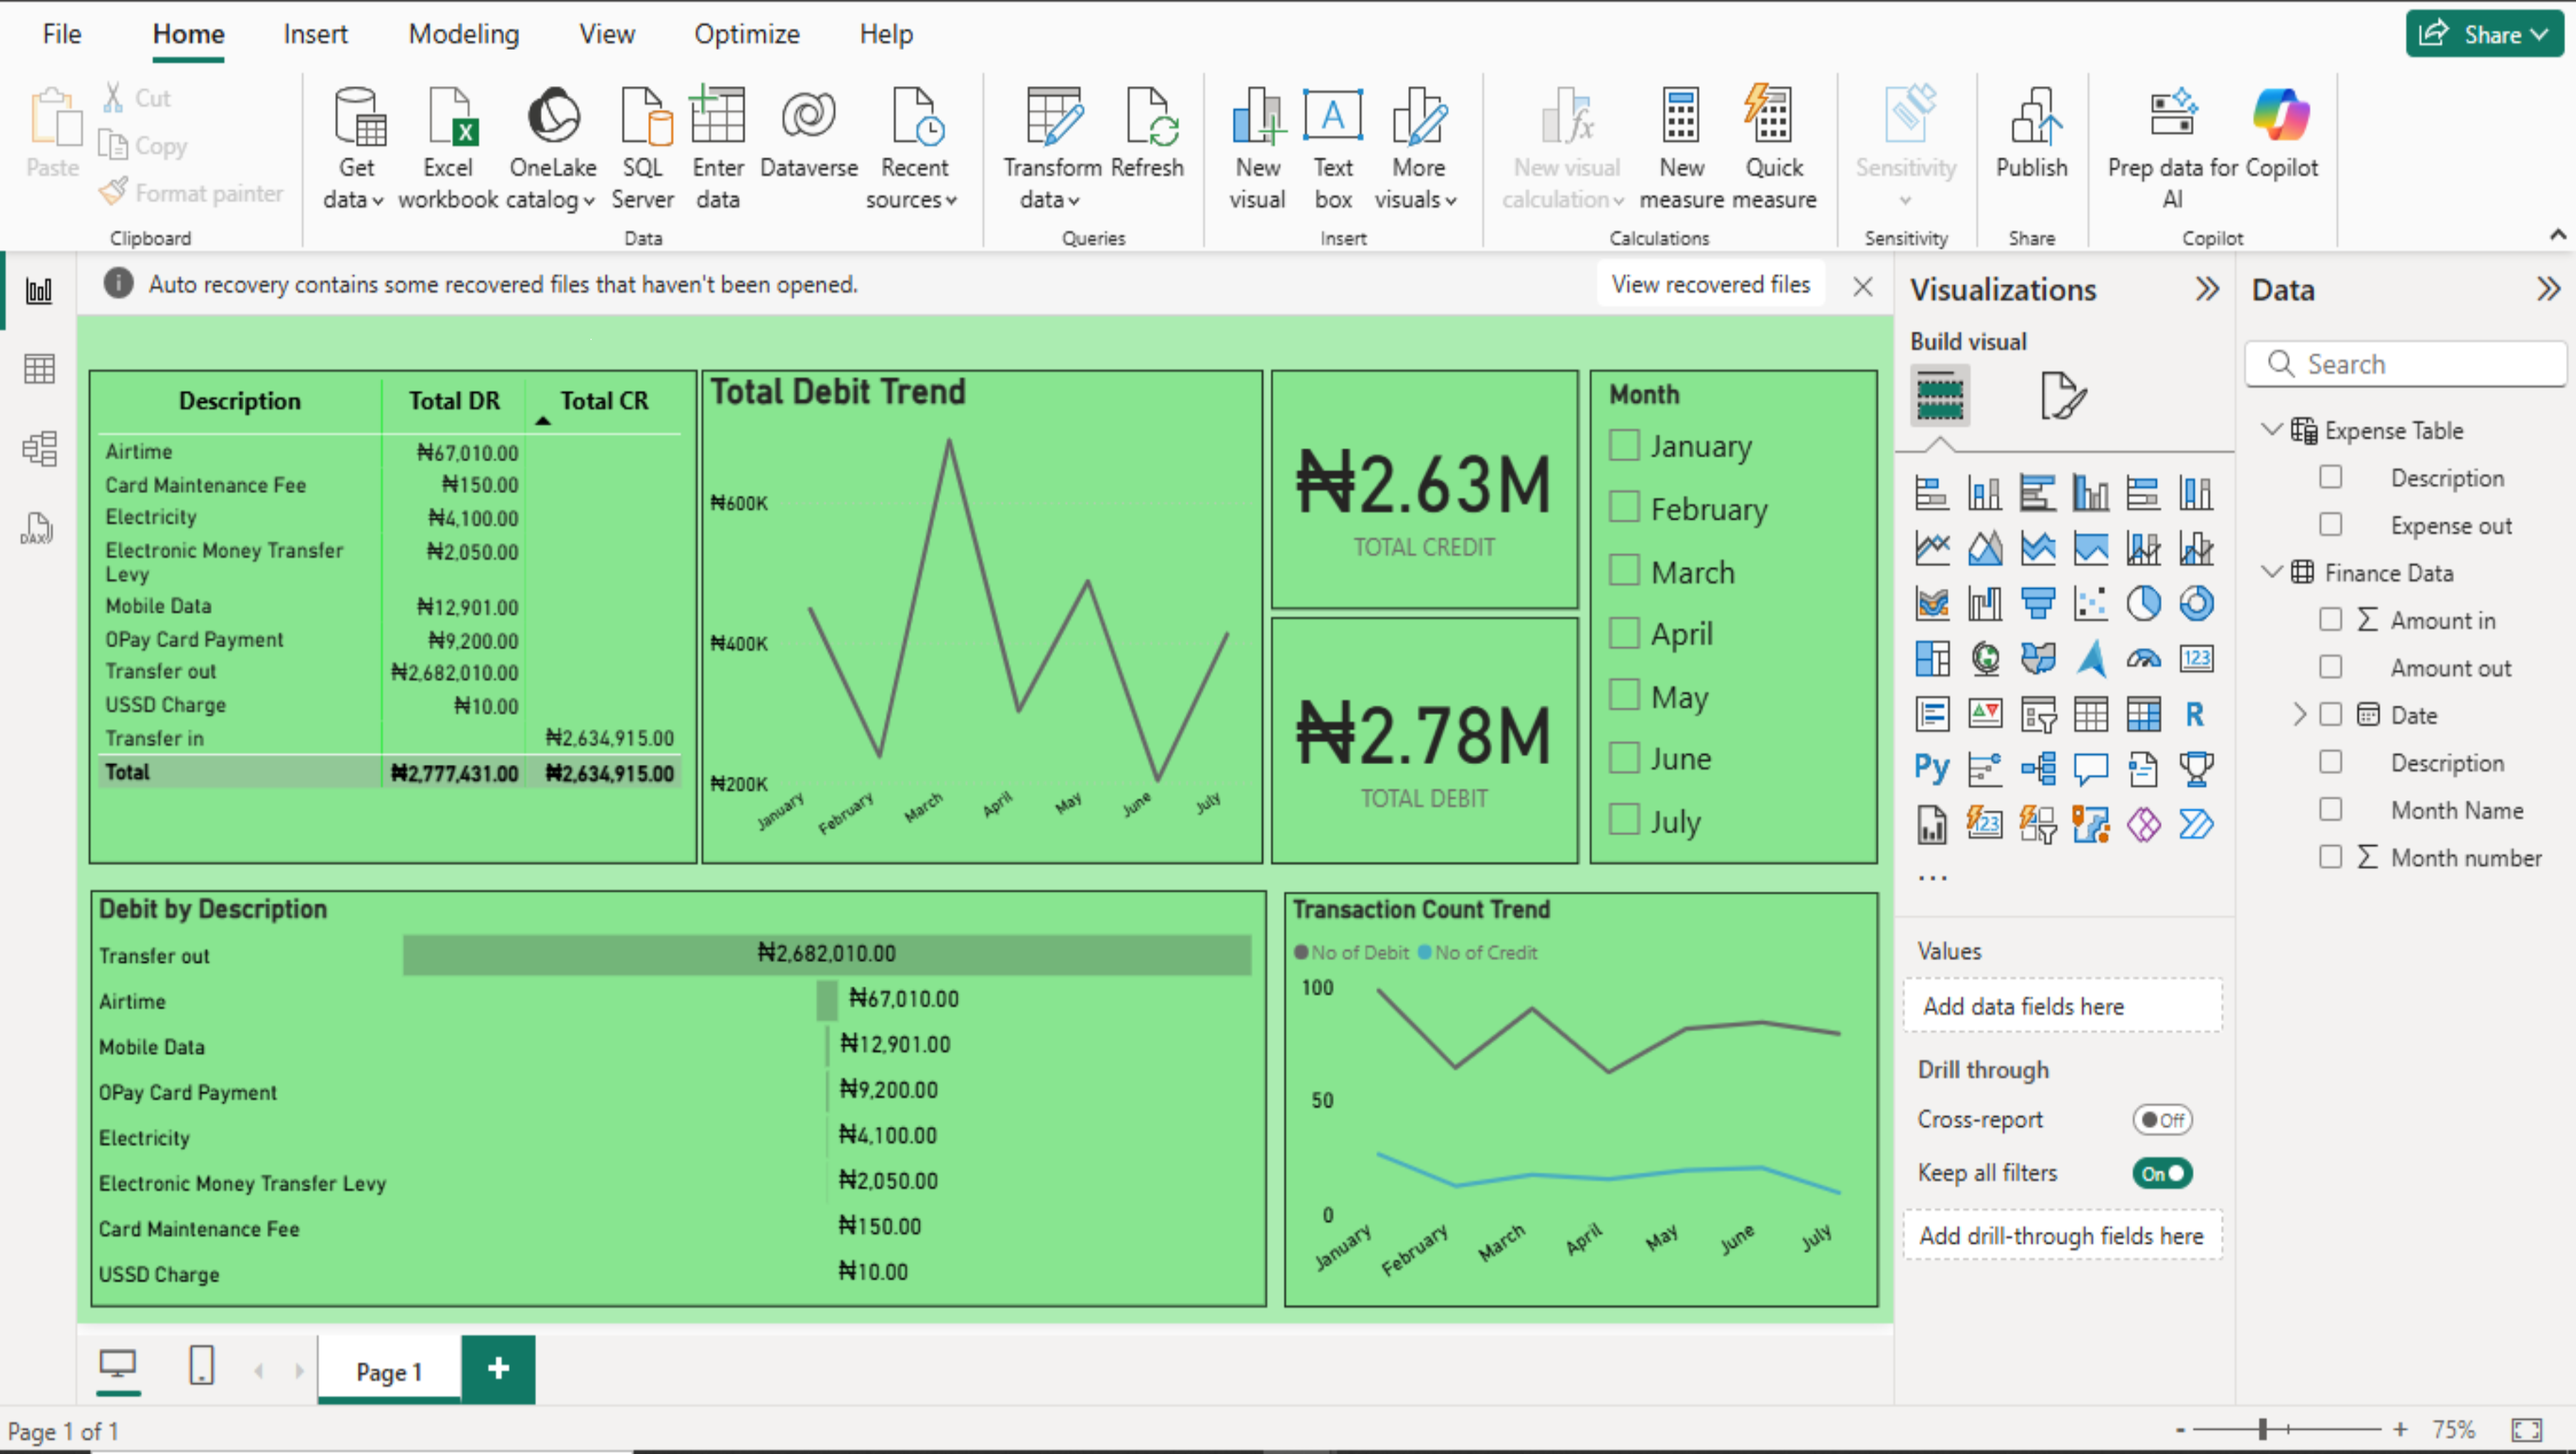

The dashboard page shown, as its layout file describes it:
{"tool":"powerbi","page":{"name":"Page 1","canvas":[1280,720],"ordinal":0},"visuals":[{"type":"tableEx","fields":{"Values":["Data.Description","Sum(Data.Amount out)","Sum(Data.Amount in)"]},"box":[8,79.8,429.3,332.3],"z":0},{"type":"actionButton","box":[0,0,100,40],"z":1000},{"type":"funnel","title":"Debit by Description","fields":{"Category":["Expense Table.Description"],"Y":["Sum(Expense Table.Expense out)"]},"box":[9.3,429.3,829.4,280.5],"z":2000},{"type":"card","fields":{"Values":["Sum(Finance Data.Amount out)"]},"box":[841.4,245.9,216.7,166.1],"z":3000},{"type":"card","fields":{"Values":["Sum(Finance Data.Amount in)"]},"box":[841.4,79.8,216.7,160.8],"z":4000},{"type":"lineChart","title":"Transaction Count Trend","fields":{"Category":["Finance Data.Month Name"],"Y":["CountNonNull(Finance Data.Amount out)","CountNonNull(Finance Data.Amount in)"]},"box":[850.7,430.7,418.7,279.1],"z":5000},{"type":"lineChart","title":"Total Debit Trend","fields":{"Category":["Finance Data.Month Name"],"Y":["Sum(Finance Data.Amount out)"]},"box":[440,79.8,396.1,332.3],"z":6000},{"type":"slicer","fields":{"Values":["Finance Data.Month Name"]},"box":[1066,79.8,203.4,332.3],"z":7000}]}

Visuals, with their boxes on the page's 1280x720 design canvas (x1, y1, x2, y2). These are canvas units, not pixel positions in the 2576x1454 screenshot, which may show the page scaled, cropped or inside an application window:
tableEx - Data.Description x Sum(Data.Amount out): 8/80/437/412
actionButton: 0/0/100/40
"Debit by Description" funnel: 9/429/839/710
card - Sum(Finance Data.Amount out): 841/246/1058/412
card - Sum(Finance Data.Amount in): 841/80/1058/241
"Transaction Count Trend" lineChart: 851/431/1269/710
"Total Debit Trend" lineChart: 440/80/836/412
slicer - Finance Data.Month Name: 1066/80/1269/412
